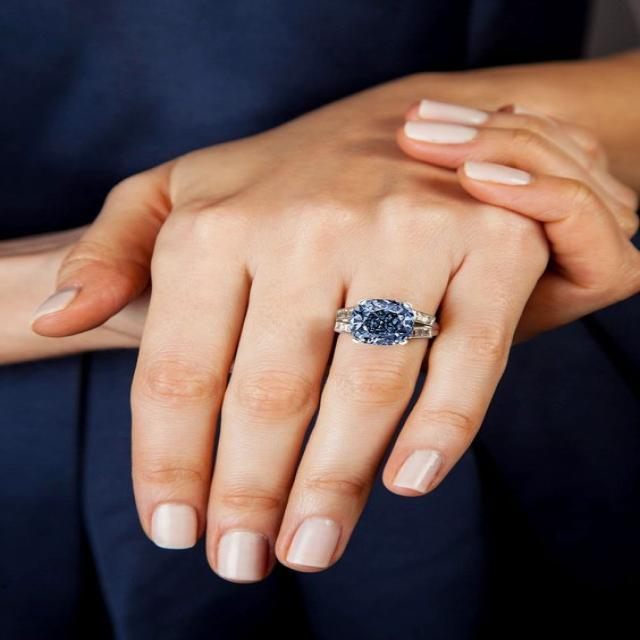Fingernail: (287, 517, 341, 568), (217, 531, 268, 581), (31, 286, 81, 332), (392, 451, 443, 494), (152, 503, 198, 550), (404, 119, 478, 143), (420, 99, 490, 124), (464, 161, 531, 186)
